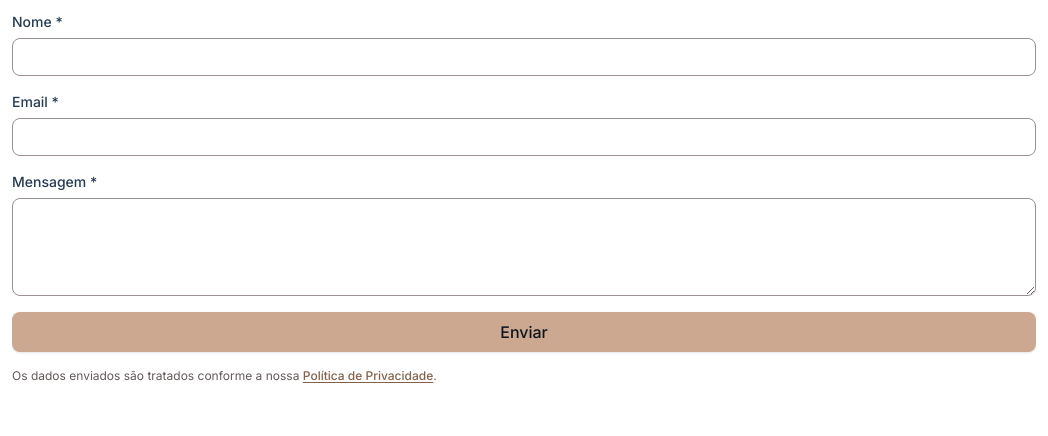
Test case: LeadForm › mostra uma mensagem genérica quando o envio falha (sem o motivo)
Type "Maria" into the field labelled "Nome *". click: x=524, y=57
box: x1=12 y1=38 x2=1036 y2=76
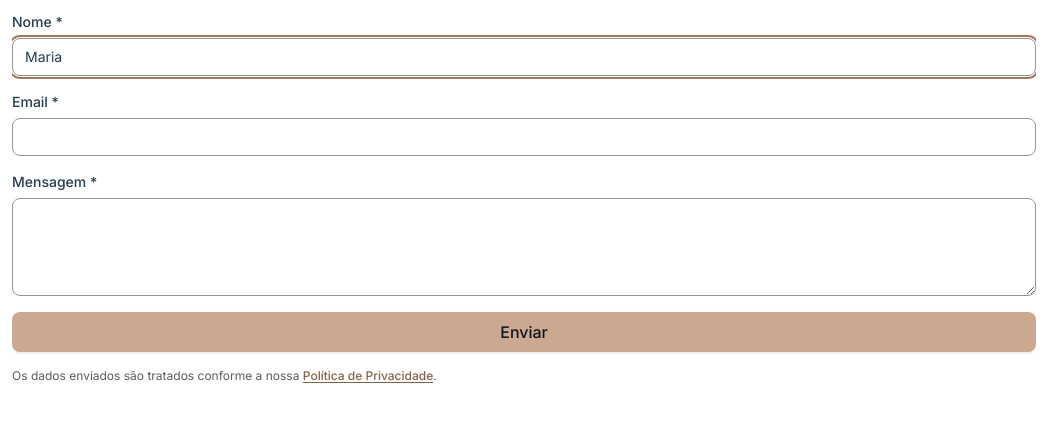
Type "maria@ex.com" into the field labelled "Email *". click: x=524, y=137
box: x1=12 y1=118 x2=1036 y2=156
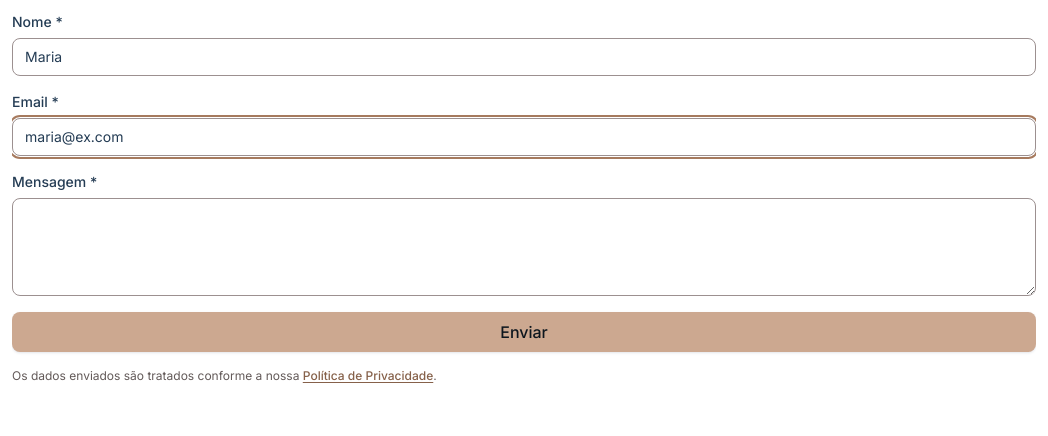
Type "Olá" into the text box labelled "Mensagem *". click: x=524, y=247
box: x1=12 y1=198 x2=1036 y2=296
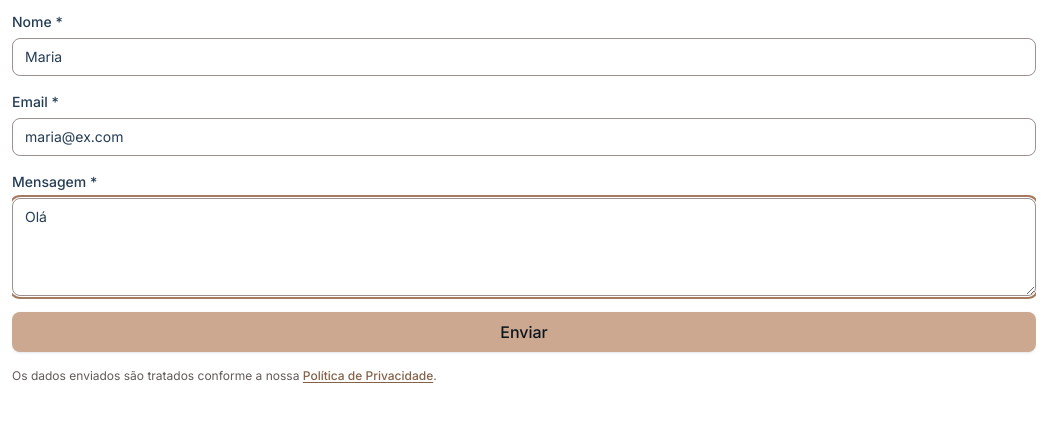
Click the button "Enviar". click: x=524, y=332
box: x1=12 y1=312 x2=1036 y2=352
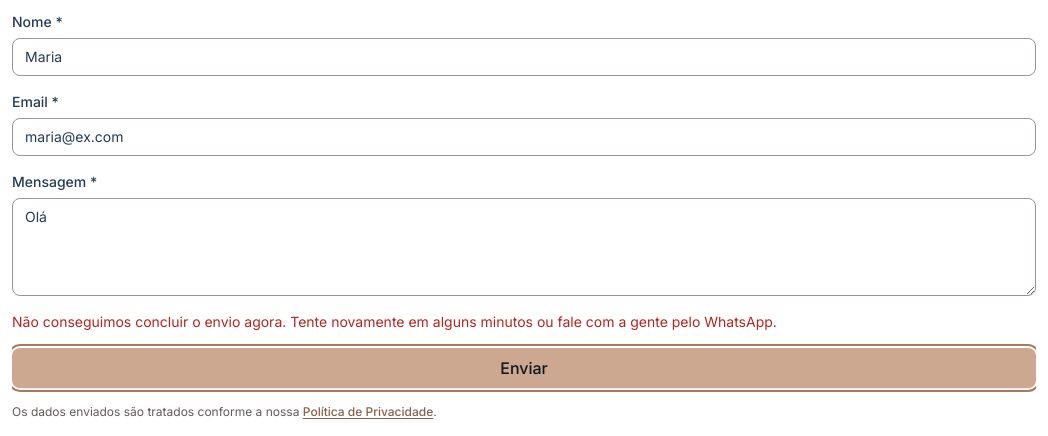
expect the message shows "Não conseguimos concluir o envio agora. Tente novamente em alguns minutos ou fale com a gente pelo WhatsApp.": met, box x1=12 y1=313 x2=777 y2=330
